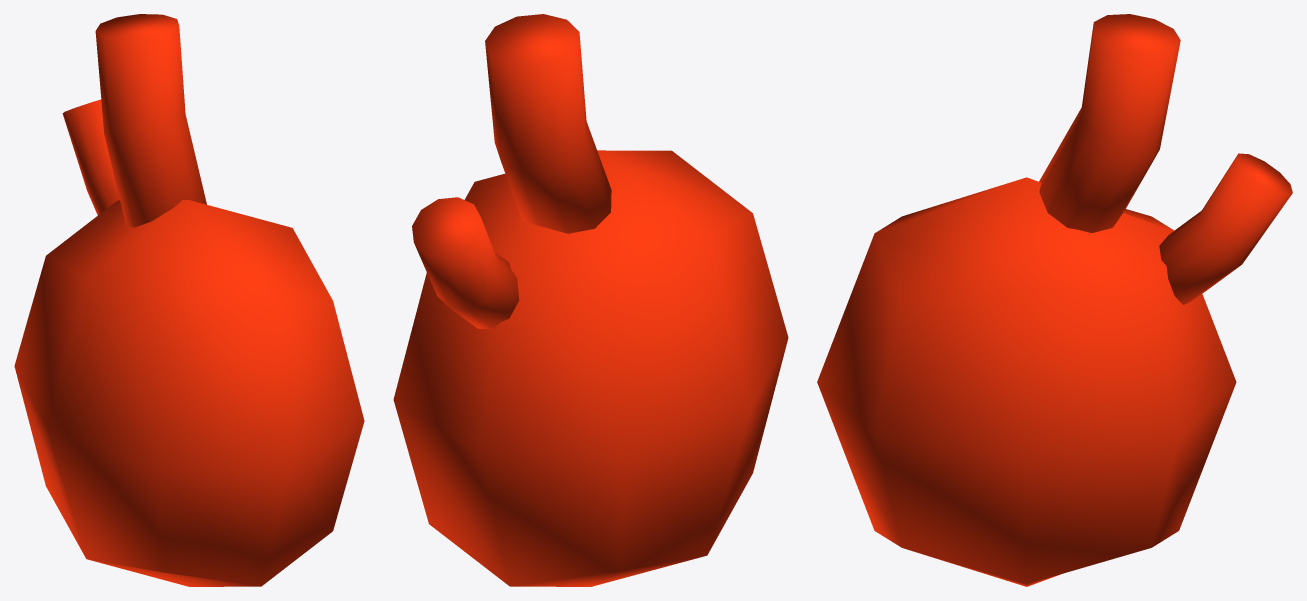
The model's file is Potion3.fbx.
3 views of the same model, side by side, from view 1: azimuth 30°, elevation 25°; view 2: azimuth 150°, elevation 25°; view 3: azimuth 270°, elevation 25° (orthographic). The views are drawn at different scales.
Visible parts, largest first — view 1: Cylinder.001; view 2: Cylinder.001; view 3: Cylinder.001.
Part boxes in pixels (left/top/right/bottom): Cylinder.001: left=14, top=14, right=364, bottom=586; Cylinder.001: left=393, top=14, right=788, bottom=586; Cylinder.001: left=817, top=14, right=1292, bottom=586.
Size of the model in its own units: 361 by 641 by 494.
